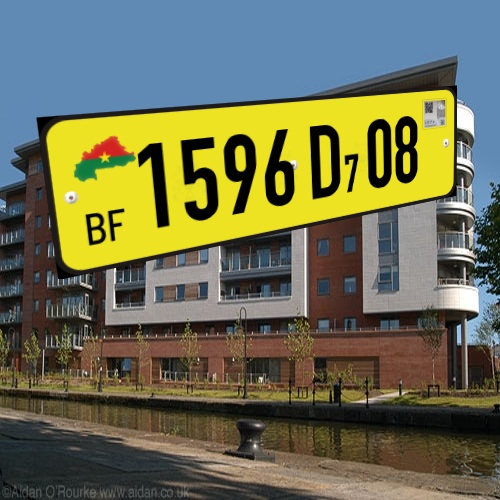plate: (24, 76, 470, 296)
